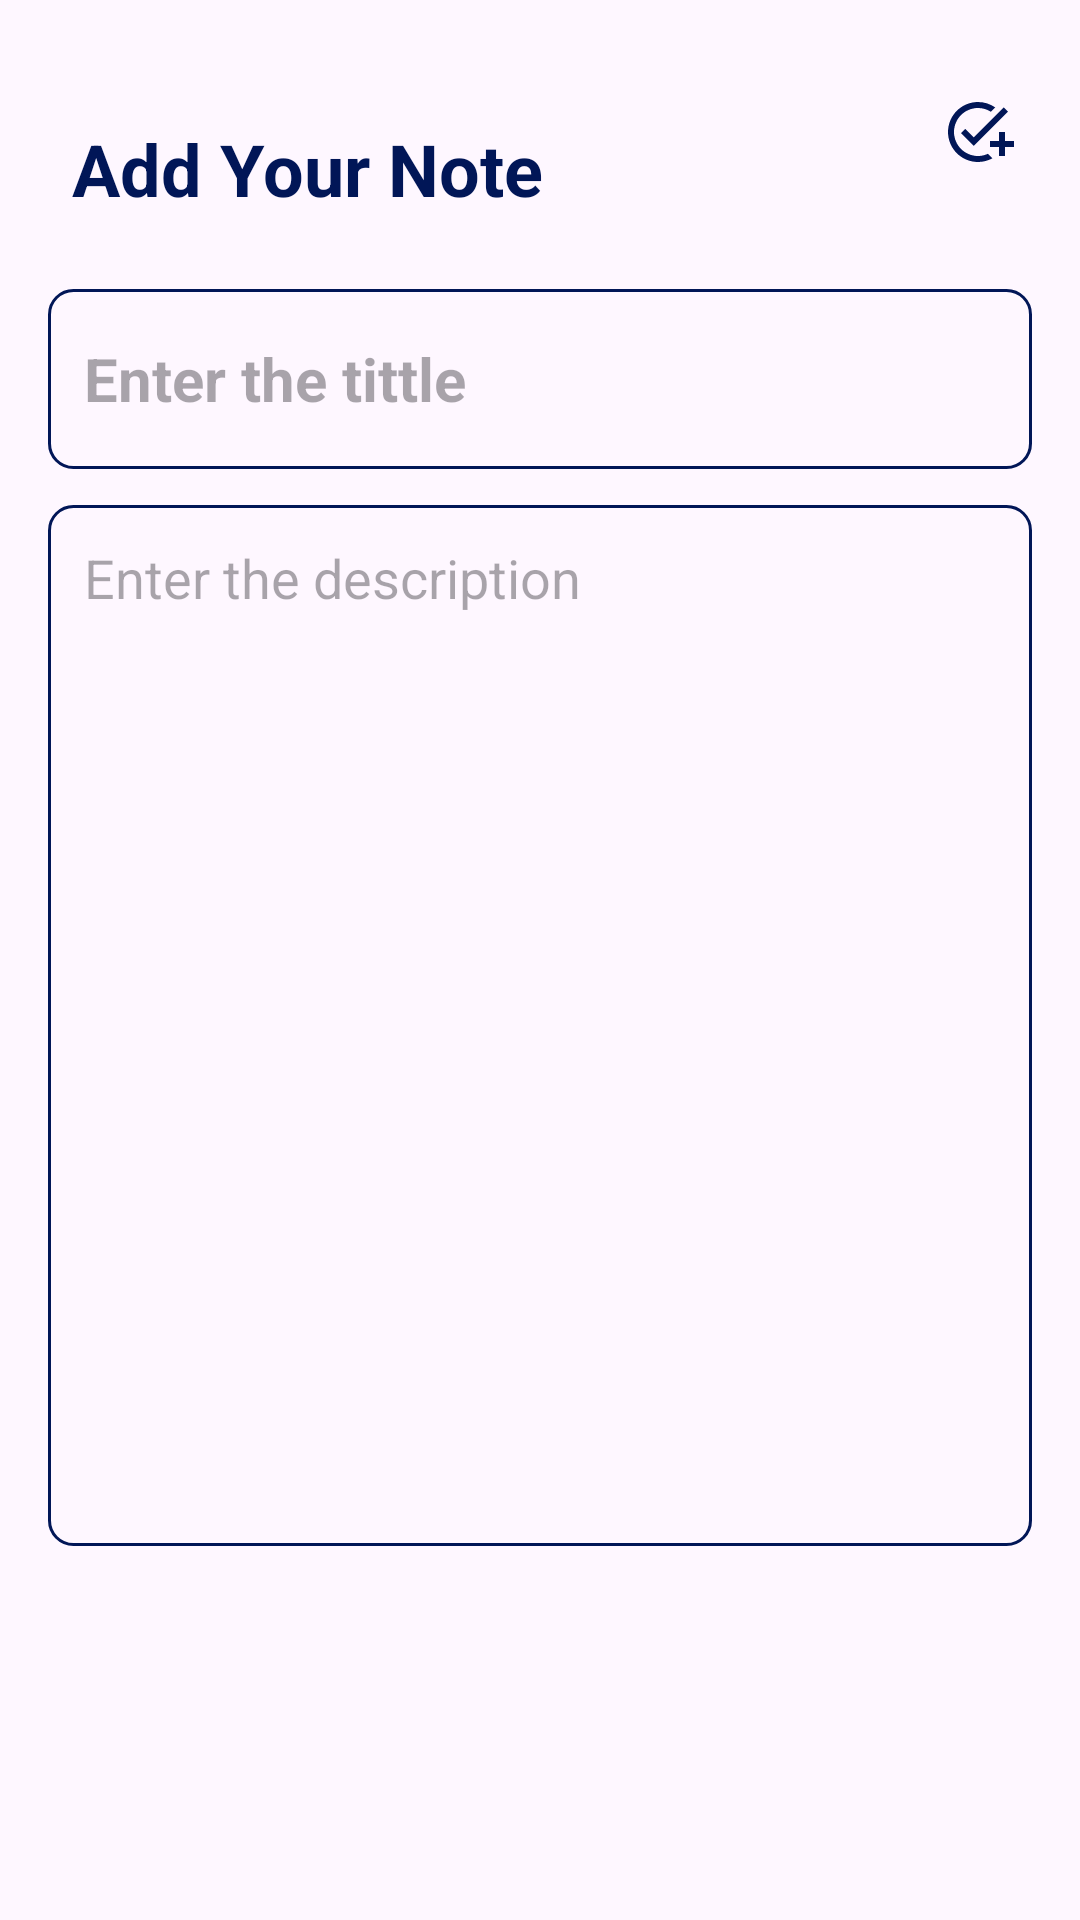

Screen size 1080 x 1920. Icon name, then its center in pixels as (x=x, y=y):
add task: (x=981, y=132)
